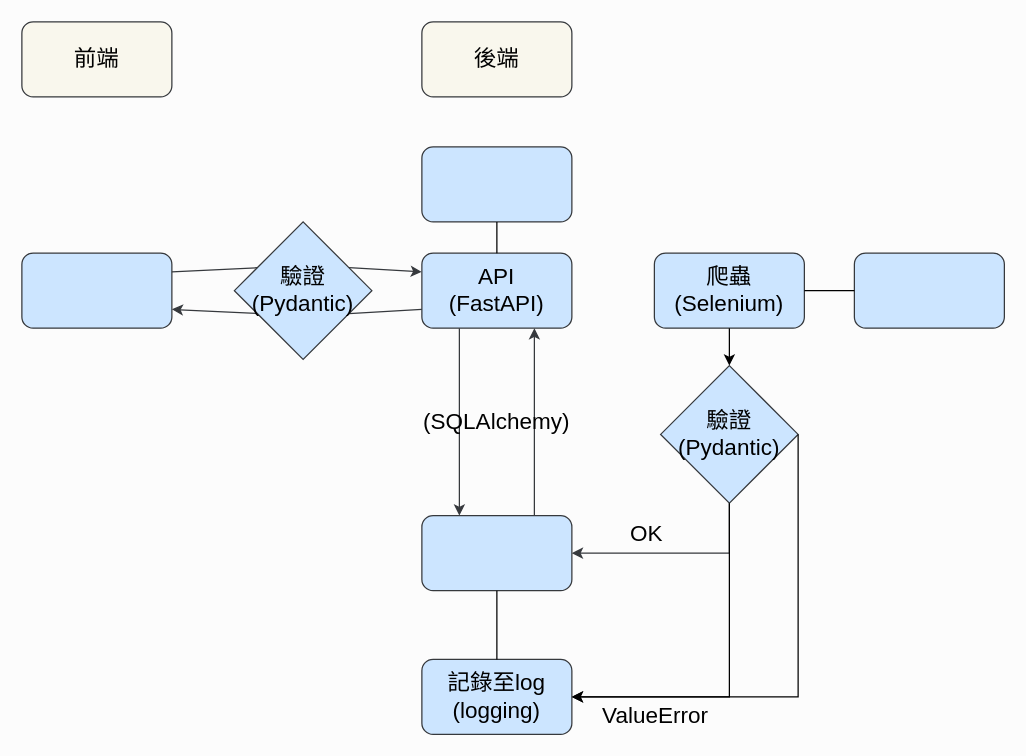
Image size: 1026x756. Some labels were removed from this diagram. The centre of each missing label's shape, as x and y in pixels:
"排程 (Schedule)" belongs at point 928,290.
"測試 (Pytest)" belongs at point 496,184.
"網頁 (Jinja2)" belongs at point 96,290.
"資料庫 (MySQL)" belongs at point 496,552.
